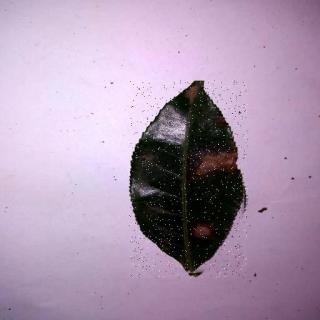Anthracnose: (131, 82, 250, 279)
